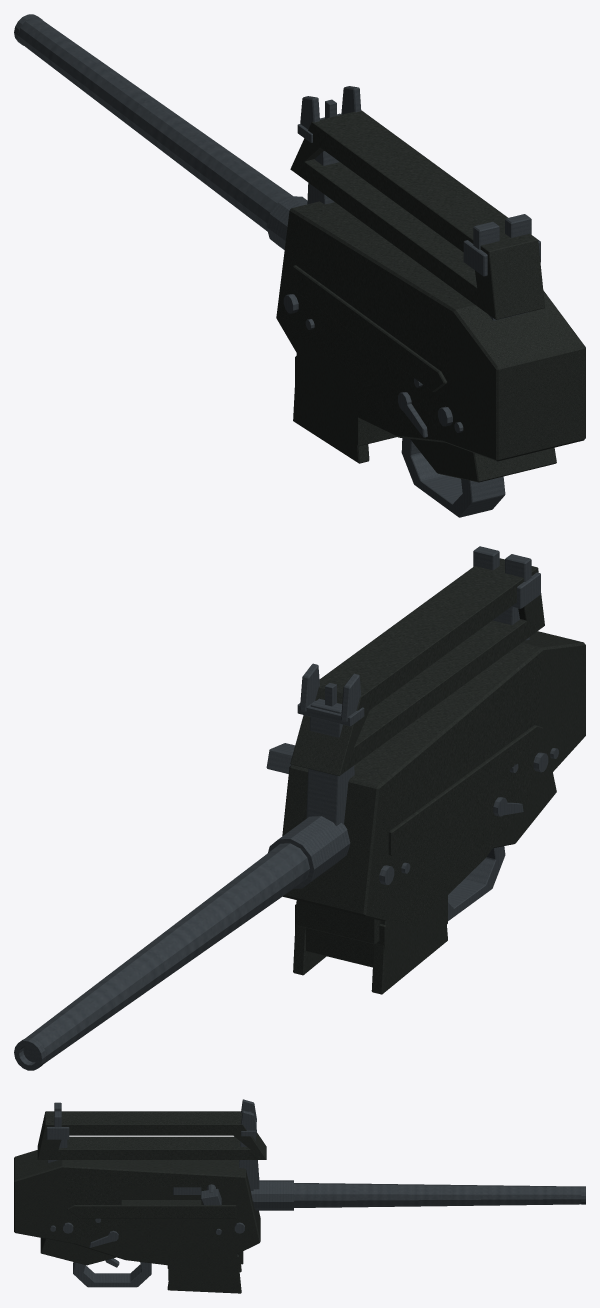
The model's file is weapon_g36k.glb.
3 renders of one model, top to bottom at view 1: azimuth 30°, elevation 25°; view 2: azimuth 150°, elevation 25°; view 3: azimuth 270°, elevation 25°, orthographic. The views are drawn at different scales.
Visible parts, largest first — view 1: body_LOD0; view 2: body_LOD0; view 3: body_LOD0, action_LOD0.
Boxes of the visible parts, x1=… form: body_LOD0: x1=14, y1=14, x2=585, y2=517; body_LOD0: x1=14, y1=546, x2=585, y2=1070; body_LOD0: x1=14, y1=1099, x2=585, y2=1293; action_LOD0: x1=173, y1=1184, x2=221, y2=1205.
Size of what is drawn, in the model's own units: 0.1495 by 0.3247 by 0.95.
1 material, 1 textured.
